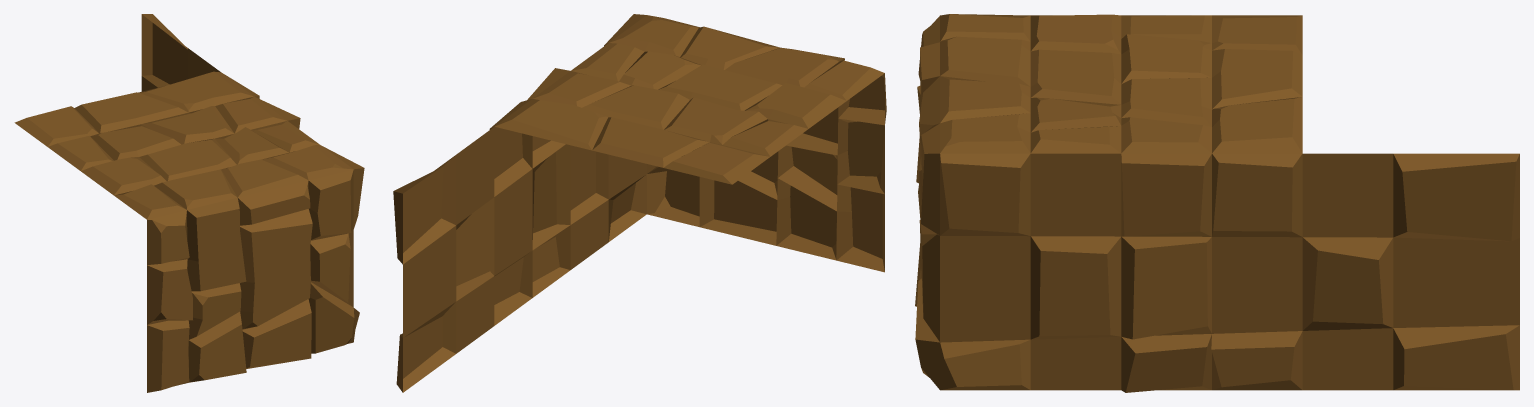
File: Cave_Ground03.fbx
3 views of the same model, side by side, from view 1: azimuth 30°, elevation 25°; view 2: azimuth 150°, elevation 25°; view 3: azimuth 270°, elevation 25° (orthographic). The views are drawn at different scales.
Parts seen in each view (by area): view 1: Cave_Ground01.007; view 2: Cave_Ground01.007; view 3: Cave_Ground01.007.
Part boxes in pixels (x1,y1,x2,y2): Cave_Ground01.007: (14,14,364,392); Cave_Ground01.007: (393,14,886,392); Cave_Ground01.007: (915,14,1519,392).
Size of the model in its own units: 2817 by 2201 by 4901.
